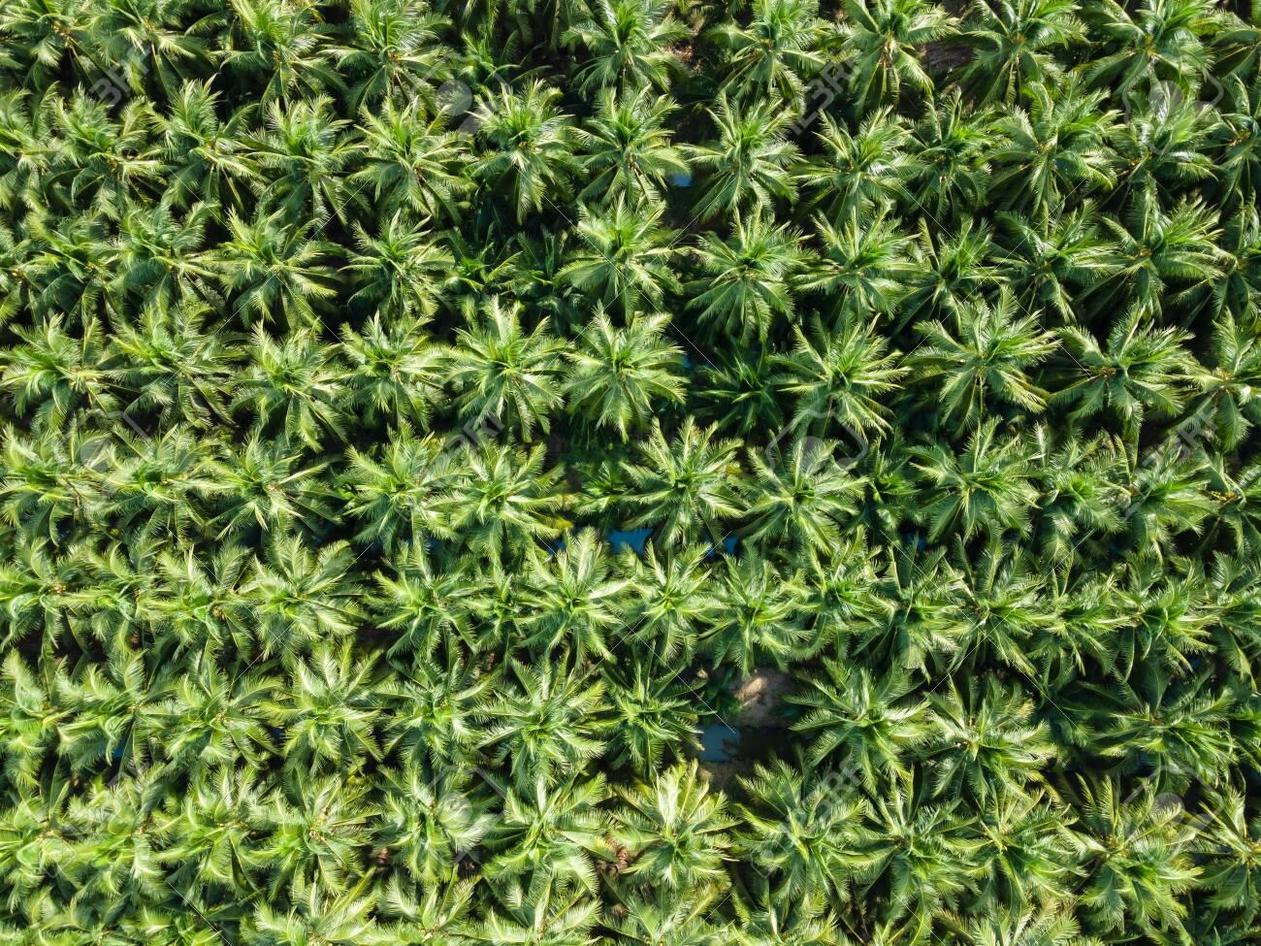coconut_tree: (924, 683, 1042, 795), (344, 97, 462, 209), (994, 88, 1112, 200), (221, 316, 339, 428), (469, 88, 587, 200), (1088, 191, 1206, 303), (381, 653, 499, 765), (866, 779, 984, 891), (695, 224, 812, 336), (693, 222, 810, 334), (912, 557, 1029, 669), (811, 672, 928, 784), (462, 88, 579, 200), (210, 215, 327, 327), (257, 545, 374, 657), (387, 546, 504, 658), (516, 548, 633, 660), (613, 545, 730, 657), (709, 83, 826, 195), (565, 90, 682, 202), (917, 424, 1034, 536), (743, 445, 860, 557), (791, 324, 908, 436), (340, 315, 457, 427), (558, 316, 675, 428), (910, 555, 1027, 667), (773, 543, 890, 655), (126, 772, 243, 884), (742, 775, 859, 887), (498, 770, 615, 882), (629, 773, 746, 885), (346, 211, 464, 322), (1059, 310, 1177, 421), (927, 298, 1045, 409), (443, 309, 561, 420), (1020, 563, 1138, 674), (253, 763, 371, 874), (284, 660, 402, 771), (155, 660, 273, 771), (0, 221, 116, 333), (0, 114, 116, 226), (0, 778, 116, 890), (0, 652, 116, 764), (143, 533, 260, 644), (494, 665, 611, 776), (198, 433, 315, 544), (338, 438, 455, 549), (450, 433, 567, 544), (625, 429, 742, 540), (805, 108, 922, 219), (816, 203, 933, 314), (1130, 561, 1247, 672), (372, 765, 489, 876), (979, 789, 1096, 900), (960, 0, 1078, 110), (573, 0, 691, 110), (0, 527, 116, 638), (0, 331, 116, 442), (1097, 0, 1214, 110), (198, 0, 315, 110), (0, 0, 116, 110)
